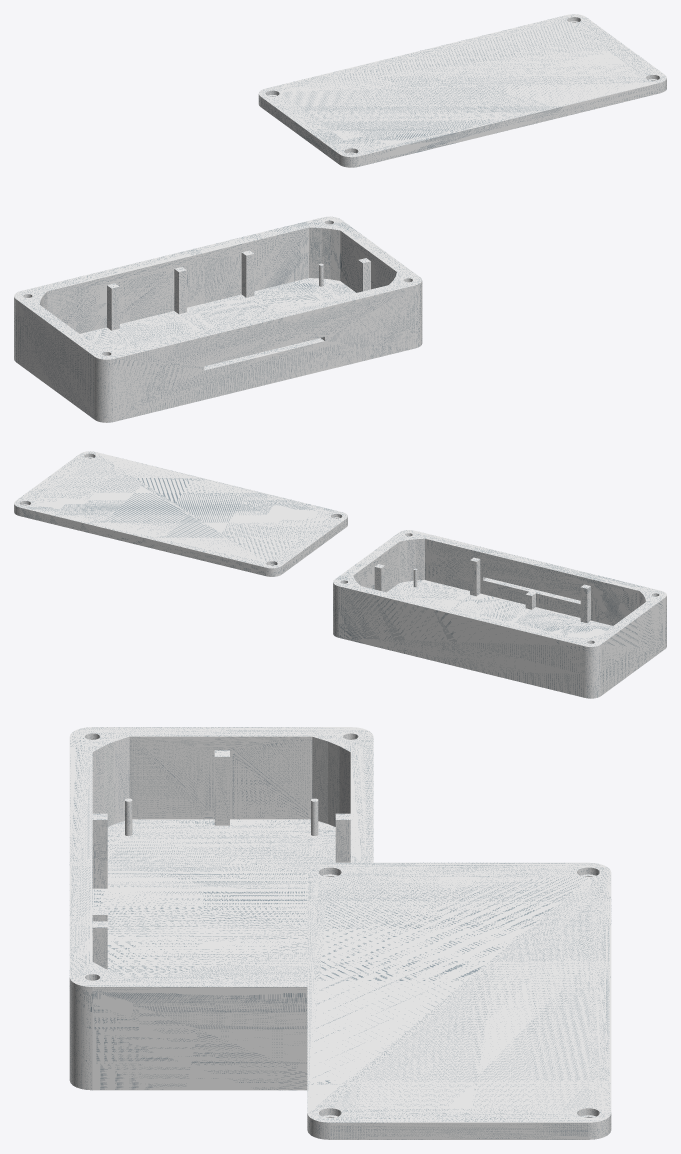
The picture shows the model from 3 angles, top to bottom: view 1: azimuth 30°, elevation 25°; view 2: azimuth 150°, elevation 25°; view 3: azimuth 270°, elevation 25°; orthographic projection. The views are drawn at different scales.
Parts seen in each view (by area): view 1: SketchUp (×3); view 2: SketchUp (×3); view 3: SketchUp (×3).
Part boxes in pixels (<box>): SketchUp (×3): <box>14,14,666,422</box>; SketchUp (×3): <box>14,451,666,698</box>; SketchUp (×3): <box>69,727,611,1139</box>.
Bounding box in the file's own units: 12.59 × 5.61 × 2.53.
